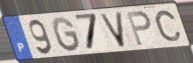7: (73, 12, 100, 53)
9: (28, 18, 54, 56)
C: (154, 10, 183, 43)
G: (51, 16, 83, 54)
P: (125, 10, 153, 47)
V: (98, 12, 127, 49)
